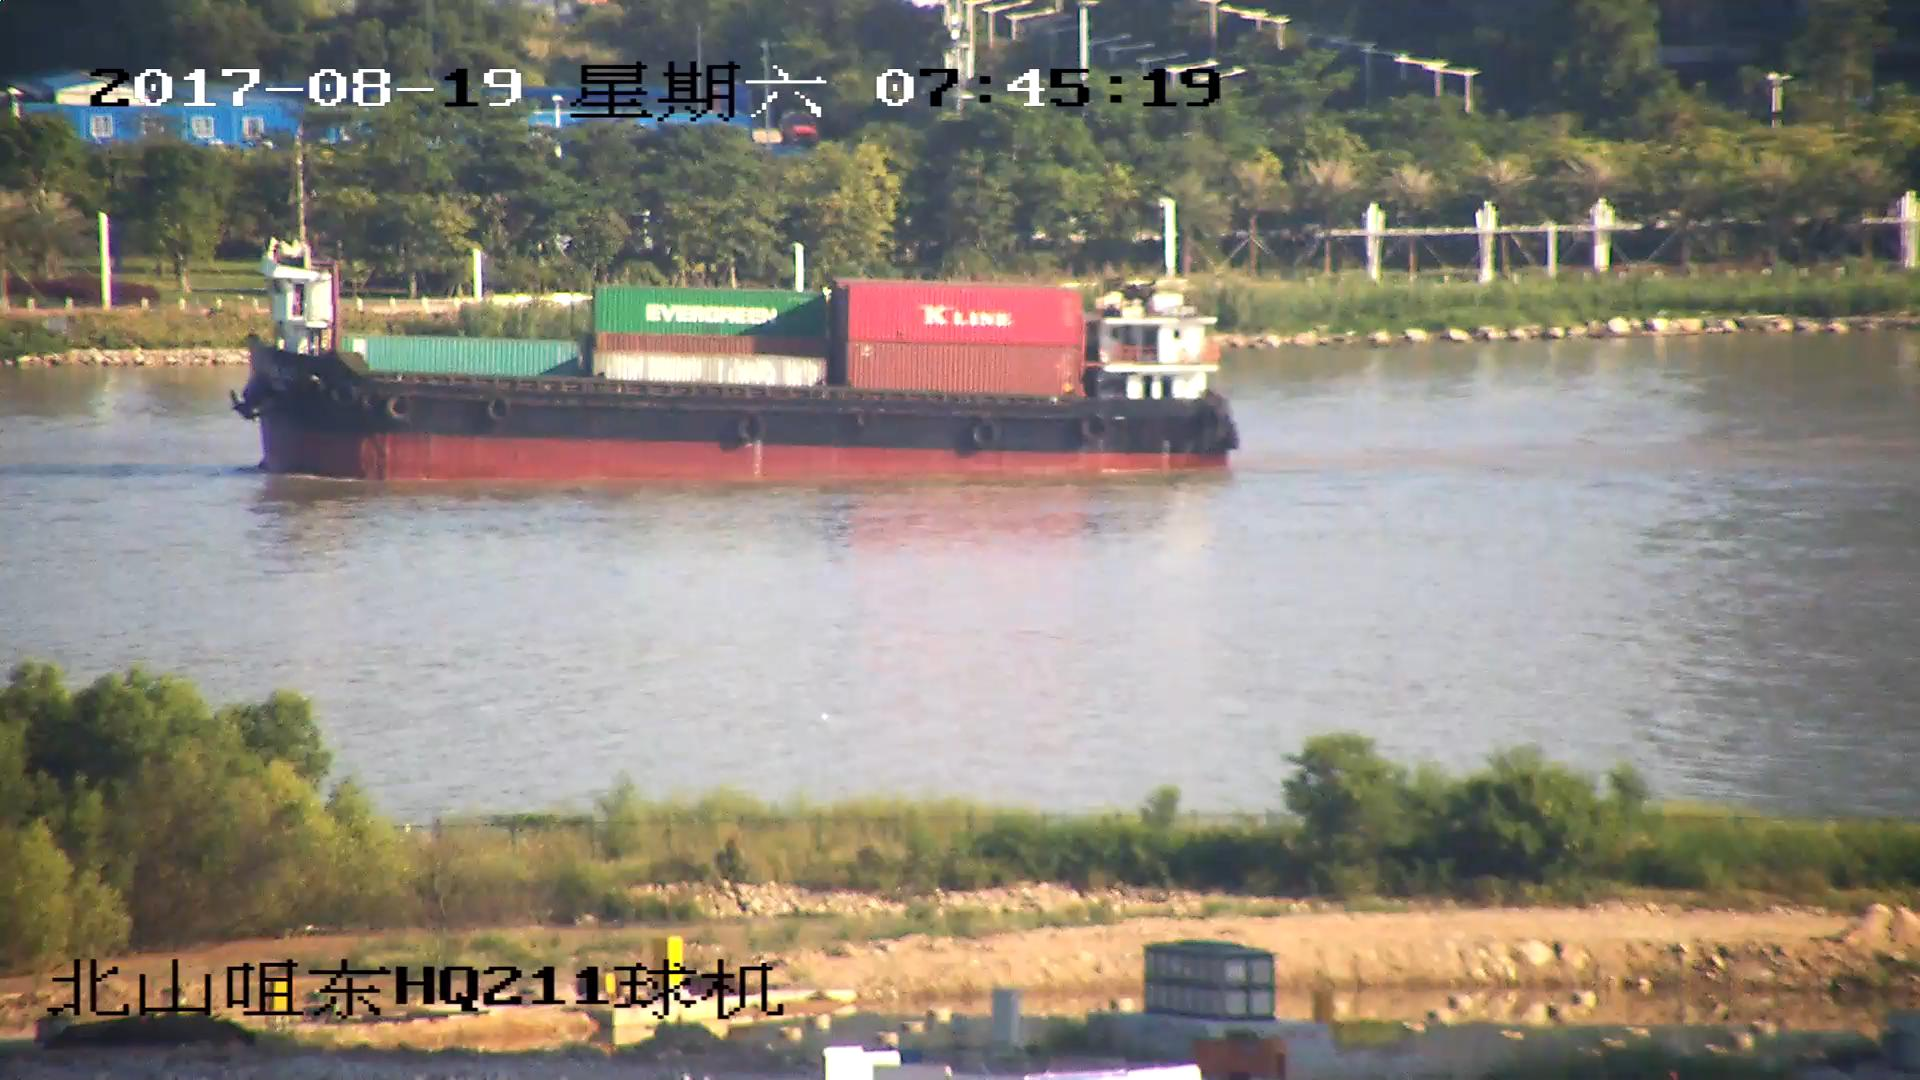container ship: (234, 156, 1242, 479)
